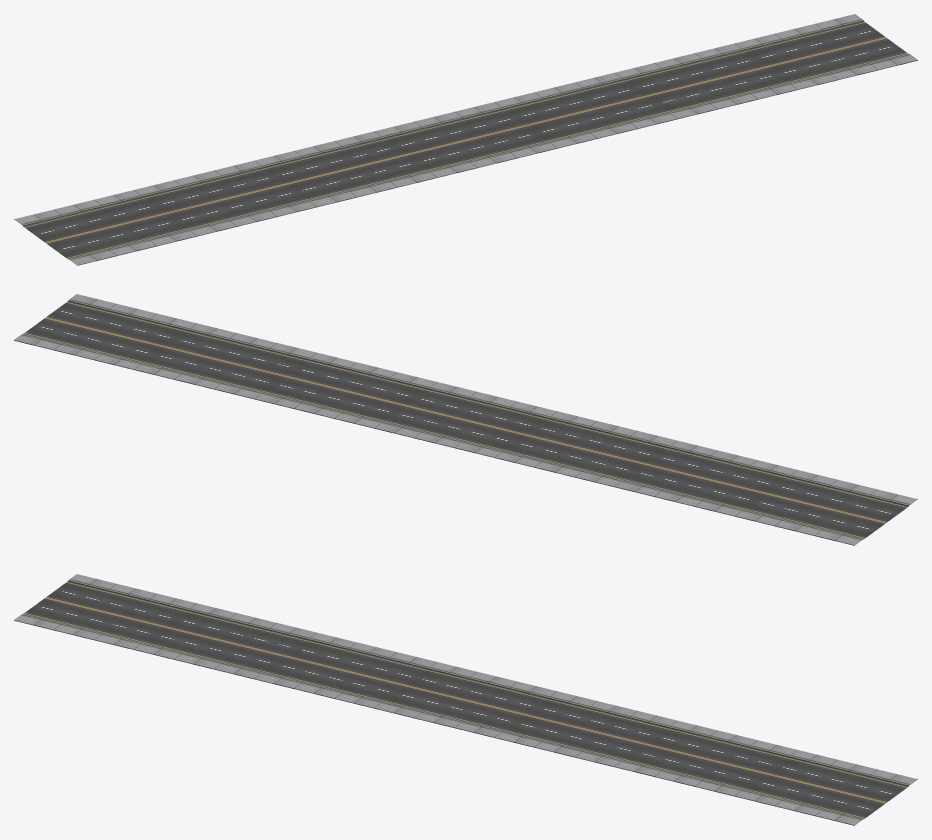
Rendered from road9.glb.
3 renders of one model, top to bottom at view 1: azimuth 30°, elevation 25°; view 2: azimuth 150°, elevation 25°; view 3: azimuth 330°, elevation 25°, orthographic.
Parts seen in each view (by area): view 1: ro_9; view 2: ro_9; view 3: ro_9.
Boxes of the visible parts, box(x1,y1,x2,y2) form: ro_9: box(14, 14, 917, 265); ro_9: box(14, 294, 917, 545); ro_9: box(14, 574, 917, 825).
Size of the model in its own units: 234 by 0.1636 by 30.33.
Materials: 1 (1 with a texture image).
